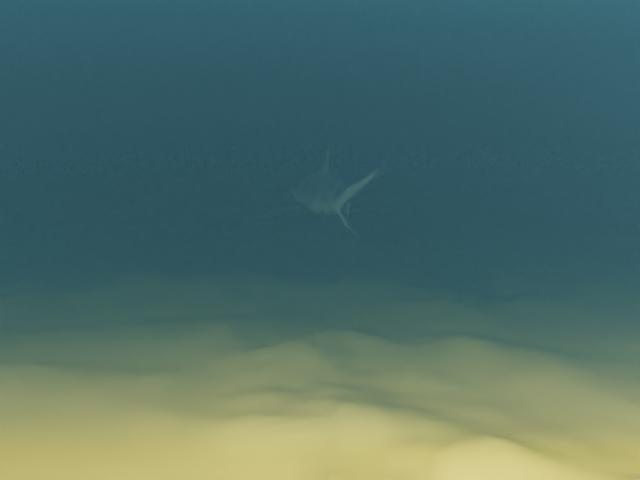Carribean Shark.001: (255, 143, 396, 237)
